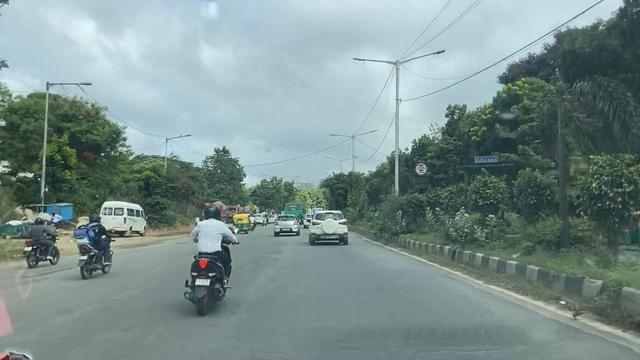HMV: (99, 198, 149, 236)
LMV: (176, 193, 254, 322), (19, 213, 69, 271), (74, 211, 116, 280), (305, 205, 352, 245), (264, 209, 301, 246), (219, 210, 237, 246)
